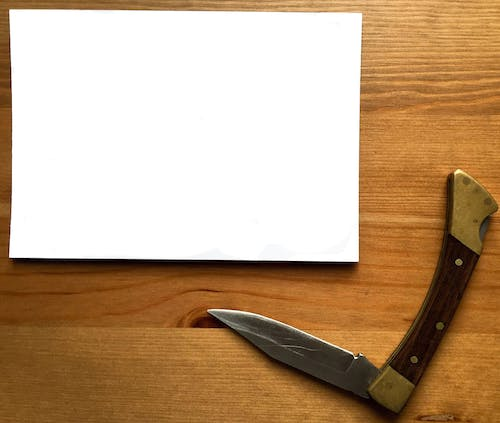knife: (205, 168, 500, 416)
